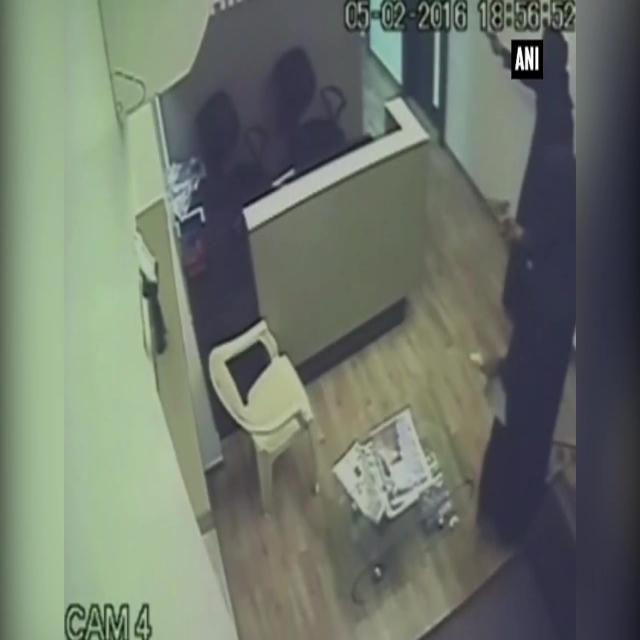Weapon: (482, 183, 518, 261), (486, 20, 499, 66)
